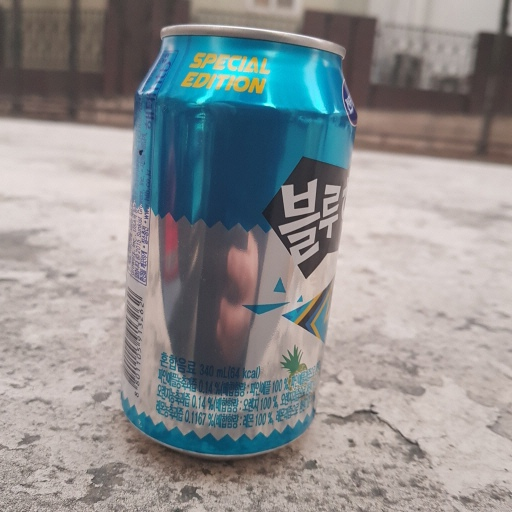Metal_0: (126, 23, 359, 456)
